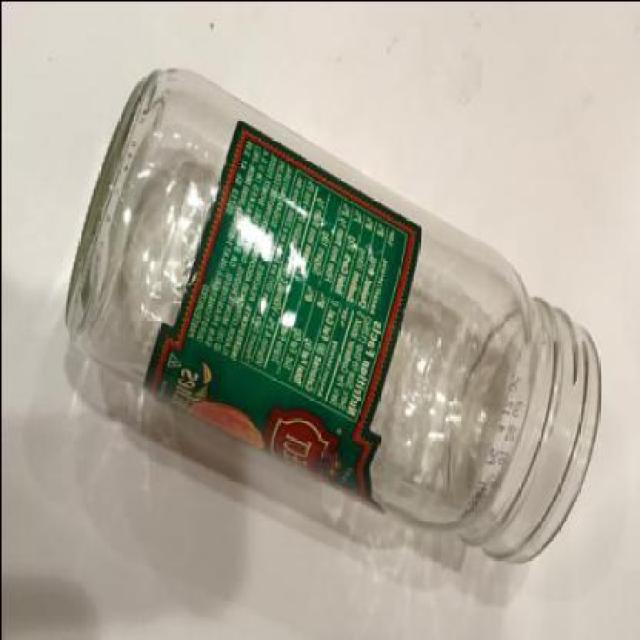GLASS: (68, 63, 601, 562)
